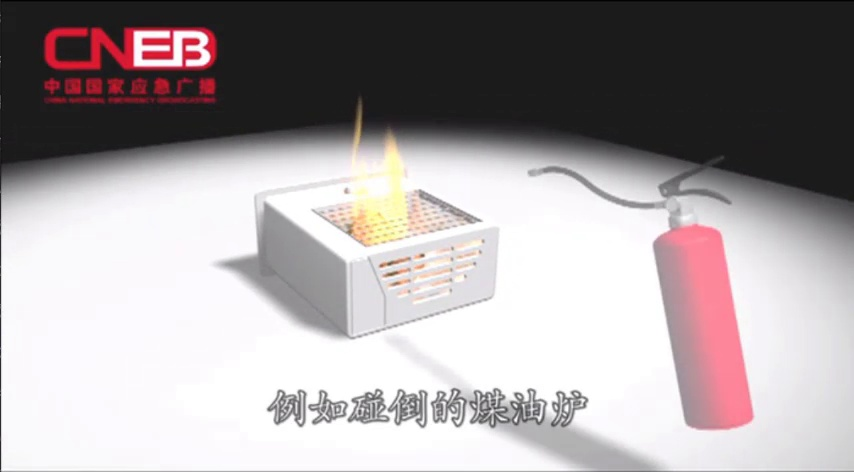fire: (339, 90, 413, 248)
